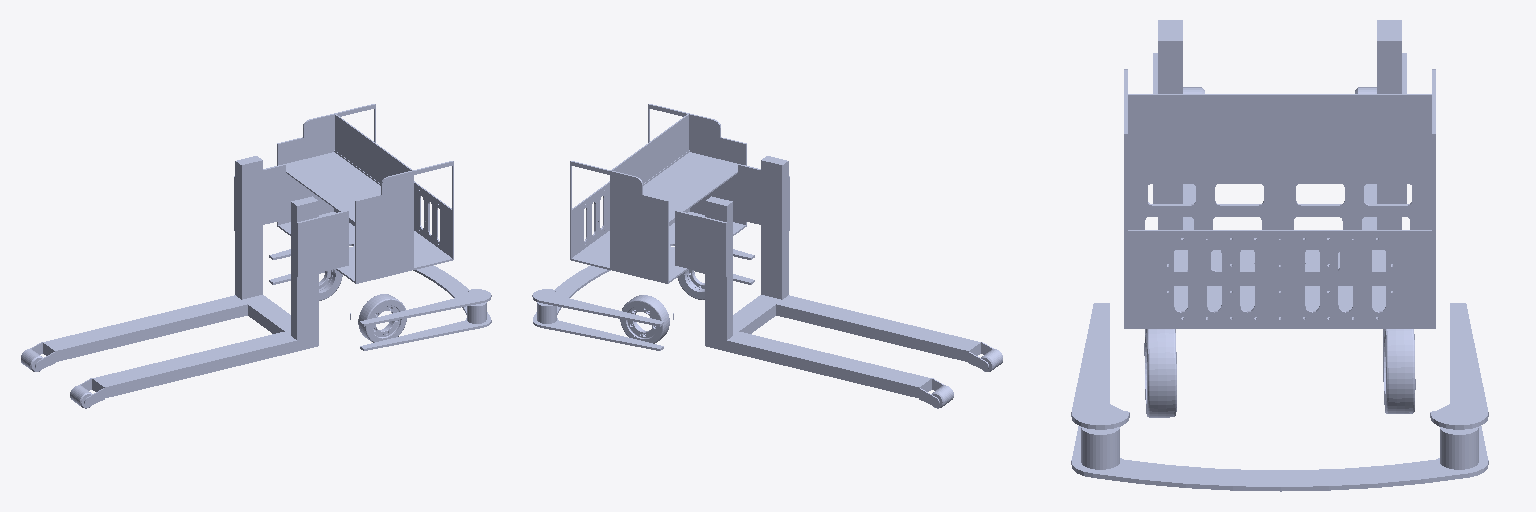
The robot description file, URDF, robot "forklift_bot":
<?xml version="1.0" encoding="utf-8"?>
<!-- This URDF was automatically created by SolidWorks to URDF Exporter! Originally created by [author] ([email redacted]) 
     Commit Version: 1.6.0-4-g7f85cfe  Build Version: 1.6.7995.38578
     For more information, please see http://wiki.ros.org/sw_urdf_exporter -->
<robot
  name="forklift_bot">
  <link
    name="base_footprint">
    <inertial>
      <origin
        xyz="0 -2.77555756156289E-17 0.015"
        rpy="0 0 0" />
      <mass
        value="9.42477796076938E-05" />
      <inertia
        ixx="7.09214541547896E-09"
        ixy="2.47386779877309E-27"
        ixz="-2.70420608685873E-26"
        iyy="7.09214541547896E-09"
        iyz="-2.1405907164421E-26"
        izz="4.71238898038469E-11" />
    </inertial>
    <visual>
      <origin
        xyz="0 0 0"
        rpy="0 0 0" />
      <geometry>
        <mesh
          filename="package://forklift_bot/meshes/base_footprint.STL" />
      </geometry>
      <material
        name="">
        <color
          rgba="0.792156862745098 0.819607843137255 0.933333333333333 1" />
      </material>
    </visual>
    <collision>
      <origin
        xyz="0 0 0"
        rpy="0 0 0" />
      <geometry>
        <mesh
          filename="package://forklift_bot/meshes/base_footprint.STL" />
      </geometry>
    </collision>
  </link>

<!-- BASE LINK -->

  <link
    name="base_link">
    <inertial>
      <origin
        xyz="-0.0775302608852084 -0.00277914212900654 -0.183841215131505"
        rpy="0 0 0" />
      <mass
        value="5.14595920970675" />
      <inertia
        ixx="0.0392351899209992"
        ixy="0.000591771072706495"
        ixz="2.361947889653E-11"
        iyy="0.0226822685145334"
        iyz="-6.01231772547955E-13"
        izz="0.0362321664032743" />
    </inertial>
    <visual>
      <origin
        xyz="0 0 0"
        rpy="0 0 0" />
      <geometry>
        <mesh
          filename="package://forklift_bot/meshes/base_link.STL" />
      </geometry>
      <material
        name="">
        <color
          rgba="0.792156862745098 0.819607843137255 0.933333333333333 1" />
      </material>
    </visual>
    <collision>
      <origin
        xyz="0 0 0"
        rpy="0 0 0" />
      <geometry>
        <mesh
          filename="package://forklift_bot/meshes/base_link.STL" />
      </geometry>
    </collision>
  </link>

  <joint
    name="base_joint"
    type="revolute">
    <origin
      xyz="0.081948 0.0029317 0.327"
      rpy="0 0 0" />
    <parent
      link="base_footprint" />
    <child
      link="base_link" />
    <axis
      xyz="0 0 1" />
    <limit
      lower="0"
      upper="0"
      effort="0"
      velocity="0" />
  </joint>

  <gazebo>
  <plugin name="gazebo_ros_control" filename="libgazebo_ros_control.so">
  <robotNamespace>/steering_control</robotNamespace>
  </plugin>
  </gazebo>

  <transmission name="forksteering_trans">
  <type>transmission_interface/simpleTranmission</type>
  <actuator name="steering_motor">
  <mechanicalReduction>1</mechanicalReduction>
  </actuator>
  <joint name="base_joint">
  <hardwareInterface>effortJointInterface</hardwareInterface>
  </joint>
  </transmission>

<!-- LEFT WHEEL LINK -->

  <link
    name="l_wheel_link">
    <inertial>
      <origin
        xyz="0.00106067575604794 -0.0296480490530116 1.65067645663264E-08"
        rpy="0 0 0" />
      <mass
        value="1.21637691245054" />
      <inertia
        ixx="0.00444641009837512"
        ixy="-0.000135205852675951"
        ixz="-4.91413457532059E-07"
        iyy="0.00822090600872782"
        iyz="-1.76549881580738E-08"
        izz="0.00444460729125196" />
    </inertial>
    <visual>
      <origin
        xyz="0 0 0"
        rpy="0 0 0" />
      <geometry>
        <mesh
          filename="package://forklift_bot/meshes/l_wheel_link.STL" />
      </geometry>
      <material
        name="">
        <color
          rgba="0.792156862745098 0.819607843137255 0.933333333333333 1" />
      </material>
    </visual>
    <collision>
      <origin
        xyz="0 0 0"
        rpy="0 0 0" />
      <geometry>
        <mesh
          filename="package://forklift_bot/meshes/l_wheel_link.STL" />
      </geometry>
    </collision>
  </link>

  <joint
    name="l_wheel_joint"
    type="continuous">
    <origin
      xyz="-0.091779 0.27189 -0.226"
      rpy="0 0 0" />
    <parent
      link="base_link" />
    <child
      link="l_wheel_link" />
    <axis
      xyz="0.035752 -0.99936 0" />
    <dynamics
      friction="1000" />
  </joint>

<!-- RIGHT WHEEL LINK -->

  <link
    name="r_wheel_link">
    <inertial>
      <origin
        xyz="-0.00106067575155485 0.0296480490531726 1.65109847738432E-08"
        rpy="0 0 0" />
      <mass
        value="1.21637691245054" />
      <inertia
        ixx="0.00444641036674466"
        ixy="-0.000135205843054646"
        ixz="4.92241199112388E-07"
        iyy="0.0082209060090726"
        iyz="1.76846137222775E-08"
        izz="0.00444460702253732" />
    </inertial>
    <visual>
      <origin
        xyz="0 0 0"
        rpy="0 0 0" />
      <geometry>
        <mesh
          filename="package://forklift_bot/meshes/r_wheel_link.STL" />
      </geometry>
      <material
        name="">
        <color
          rgba="0.792156862745098 0.819607843137255 0.933333333333333 1" />
      </material>
    </visual>
    <collision>
      <origin
        xyz="0 0 0"
        rpy="0 0 0" />
      <geometry>
        <mesh
          filename="package://forklift_bot/meshes/r_wheel_link.STL" />
      </geometry>
    </collision>
  </link>

  <joint
    name="r_wheel_joint"
    type="continuous">
    <origin
      xyz="-0.072116 -0.27776 -0.226"
      rpy="0 0 0" />
    <parent
      link="base_link" />
    <child
      link="r_wheel_link" />
    <axis
      xyz="-0.035752 0.99936 0" />
    <dynamics
      friction="1000" />
  </joint>

<!-- BODY LINK -->

  <link
    name="body_link">
    <inertial>
      <origin
        xyz="-0.360061124429578 6.14083033533275E-05 -0.058829360255419"
        rpy="0 0 0" />
      <mass
        value="27.9556346595846" />
      <inertia
        ixx="2.13609819501259"
        ixy="-8.37726757678595E-05"
        ixz="-0.596469627860742"
        iyy="2.85649733446574"
        iyz="9.61587497073129E-05"
        izz="3.29047551528355" />
    </inertial>
    <visual>
      <origin
        xyz="0 0 0"
        rpy="0 0 0" />
      <geometry>
        <mesh
          filename="package://forklift_bot/meshes/body_link.STL" />
      </geometry>
      <material
        name="">
        <color
          rgba="0.792156862745098 0.819607843137255 0.933333333333333 1" />
      </material>
    </visual>
    <collision>
      <origin
        xyz="0 0 0"
        rpy="0 0 0" />
      <geometry>
        <mesh
          filename="package://forklift_bot/meshes/body_link.STL" />
      </geometry>
    </collision>
  </link>
  
  <joint
    name="body_joint"
    type="fixed">
    <origin
      xyz="-0.081948 -0.0029317 0"
      rpy="0 0 0" />
    <parent
      link="base_link" />
    <child
      link="body_link" />
    <axis
      xyz="0 0 1" />
  </joint>

<!-- LEFT LASER LINK -->

  <link
    name="l_laser_link">
    <inertial>
      <origin
        xyz="-5.55111512312578E-17 0 -0.0395000000000001"
        rpy="0 0 0" />
      <mass
        value="0.39709731141375" />
      <inertia
        ixx="0.000365362617943268"
        ixy="1.83524188162459E-51"
        ixz="-1.21245706409418E-36"
        iyy="0.000365362617943268"
        iyz="6.46109837352298E-20"
        izz="0.000317677849131001" />
    </inertial>
    <visual>
      <origin
        xyz="0 0 0"
        rpy="0 0 0" />
      <geometry>
        <mesh
          filename="package://forklift_bot/meshes/l_laser_link.STL" />
      </geometry>
      <material
        name="">
        <color
          rgba="0.792156862745098 0.819607843137255 0.933333333333333 1" />
      </material>
    </visual>
    <collision>
      <origin
        xyz="0 0 0"
        rpy="0 0 0" />
      <geometry>
        <mesh
          filename="package://forklift_bot/meshes/l_laser_link.STL" />
      </geometry>
    </collision>
  </link>

  <joint
    name="l_laser_jont"
    type="fixed">
    <origin
      xyz="0.37683 0.36832 -0.18564"
      rpy="0 0 0" />
    <parent
      link="body_link" />
    <child
      link="l_laser_link" />
    <axis
      xyz="0 0 1" />
  </joint>

<!-- RIGHT LASER LINK -->

  <link
    name="r_laser_link">
    <inertial>
      <origin
        xyz="5.55111512312578E-17 1.38777878078145E-16 -0.0395"
        rpy="0 0 0" />
      <mass
        value="0.39709731141375" />
      <inertia
        ixx="0.000365362617943268"
        ixy="2.74225140408896E-51"
        ixz="-1.21245706409418E-36"
        iyy="0.000365362617943268"
        iyz="1.53831787512682E-19"
        izz="0.000317677849131001" />
    </inertial>
    <visual>
      <origin
        xyz="0 0 0"
        rpy="0 0 0" />
      <geometry>
        <mesh
          filename="package://forklift_bot/meshes/r_laser_link.STL" />
      </geometry>
      <material
        name="">
        <color
          rgba="0.792156862745098 0.819607843137255 0.933333333333333 1" />
      </material>
    </visual>
    <collision>
      <origin
        xyz="0 0 0"
        rpy="0 0 0" />
      <geometry>
        <mesh
          filename="package://forklift_bot/meshes/r_laser_link.STL" />
      </geometry>
    </collision>
  </link>
  <joint
    name="r_laser_joint"
    type="fixed">
    <origin
      xyz="0.37683 -0.36832 -0.18564"
      rpy="0 0 0" />
    <parent
      link="body_link" />
    <child
      link="r_laser_link" />
    <axis
      xyz="0 0 1" />
  </joint>

<!-- LEFT ROLLER LINK -->

  <link
    name="l_roller_link">
    <inertial>
      <origin
        xyz="-2.22044604925031E-16 -0.0449999999999999 5.55111512312578E-17"
        rpy="0 0 0" />
      <mass
        value="0.312850268419892" />
      <inertia
        ixx="0.00030732466509109"
        ixy="2.86780554083019E-19"
        ixz="-2.02528219753744E-21"
        iyy="0.000204892709371601"
        iyz="1.21721281498403E-19"
        izz="0.00030732466509109" />
    </inertial>
    <visual>
      <origin
        xyz="0 0 0"
        rpy="0 0 0" />
      <geometry>
        <mesh
          filename="package://forklift_bot/meshes/l_roller_link.STL" />
      </geometry>
      <material
        name="">
        <color
          rgba="0.792156862745098 0.819607843137255 0.933333333333333 1" />
      </material>
    </visual>
    <collision>
      <origin
        xyz="0 0 0"
        rpy="0 0 0" />
      <geometry>
        <mesh
          filename="package://forklift_bot/meshes/l_roller_link.STL" />
      </geometry>
    </collision>
  </link>

  <joint
    name="l_roller_joint"
    type="continuous">
    <origin
      xyz="-1.3688 0.245 -0.26964"
      rpy="0 0 0" />
    <parent
      link="body_link" />
    <child
      link="l_roller_link" />
    <axis
      xyz="0 1 0" />
    <dynamics
      friction="0.1" />
  </joint>

<!-- RIGHT ROLLER LINK -->

  <link
    name="r_roller_link">
    <inertial>
      <origin
        xyz="-4.44089209850063E-16 0.0450000000000001 5.55111512312578E-17"
        rpy="0 0 0" />
      <mass
        value="0.312850268419892" />
      <inertia
        ixx="0.00030732466509109"
        ixy="2.84239455241256E-19"
        ixz="-2.2592442056983E-21"
        iyy="0.000204892709371601"
        iyz="2.17548501101446E-19"
        izz="0.00030732466509109" />
    </inertial>
    <visual>
      <origin
        xyz="0 0 0"
        rpy="0 0 0" />
      <geometry>
        <mesh
          filename="package://forklift_bot/meshes/r_roller_link.STL" />
      </geometry>
      <material
        name="">
        <color
          rgba="0.792156862745098 0.819607843137255 0.933333333333333 1" />
      </material>
    </visual>
    <collision>
      <origin
        xyz="0 0 0"
        rpy="0 0 0" />
      <geometry>
        <mesh
          filename="package://forklift_bot/meshes/r_roller_link.STL" />
      </geometry>
    </collision>
  </link>

  <joint
    name="r_roller_joint"
    type="continuous">
    <origin
      xyz="-1.3688 -0.245 -0.26964"
      rpy="0 0 0" />
    <parent
      link="body_link" />
    <child
      link="r_roller_link" />
    <axis
      xyz="0 1 0" />
    <dynamics
      friction="0.1" />
  </joint>

</robot>

--- Facts derived from the render (not from the file) ---
The picture shows the robot from 3 angles, left to right: view 1: azimuth 30°, elevation 25°; view 2: azimuth 150°, elevation 25°; view 3: azimuth 270°, elevation 25°; orthographic projection.
Model forklift_bot with 9 links and 8 joints (1 revolute, 4 continuous, 3 fixed), rooted at base_footprint, posed every joint at zero.
Visible links, largest first — view 1: body_link, r_wheel_link; view 2: body_link, l_wheel_link, r_wheel_link; view 3: body_link, r_wheel_link, l_wheel_link, l_laser_link, r_laser_link.
Link boxes in pixels (x1,y1,x2,y2): body_link: (30,104,491,406); r_wheel_link: (358,294,406,342); body_link: (532,104,993,406); l_wheel_link: (620,295,669,343); r_wheel_link: (677,269,704,299); body_link: (1071,20,1488,491); r_wheel_link: (1144,329,1176,417); l_wheel_link: (1383,329,1415,413); l_laser_link: (1440,427,1478,469); r_laser_link: (1081,427,1119,469).
Bounding box of the posed robot: 1.9 × 0.8562 × 0.769 m (x, y, z).
Meshes: 9 distinct files referenced, 8 mesh visuals loaded (8 binary STL); not drawn: 1 (reference not matched to a file when rendering).
